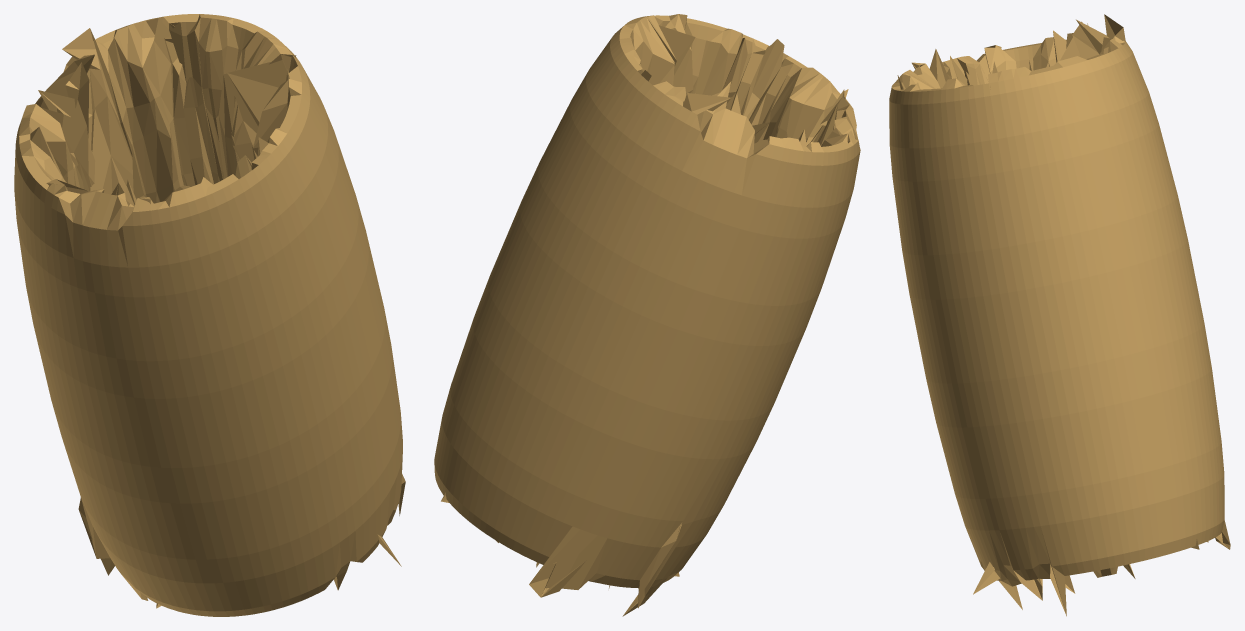
File: plaque.fbx
3 views of the same model, side by side, from view 1: azimuth 30°, elevation 25°; view 2: azimuth 150°, elevation 25°; view 3: azimuth 270°, elevation 25° (orthographic). The views are drawn at different scales.
Visible parts, largest first — view 1: plaque; view 2: plaque; view 3: plaque.
Part boxes in pixels (x1,y1,x2,y2): plaque: (14, 14, 405, 616); plaque: (434, 14, 860, 616); plaque: (889, 14, 1230, 616).
Size of the model in its own units: 18.38 by 26.81 by 15.57.
